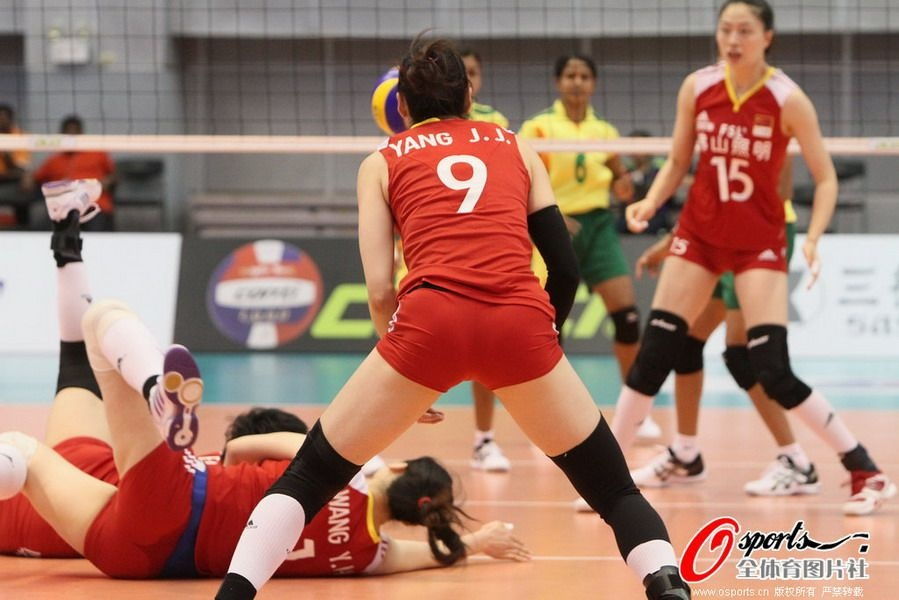falling: (7, 176, 507, 600)
